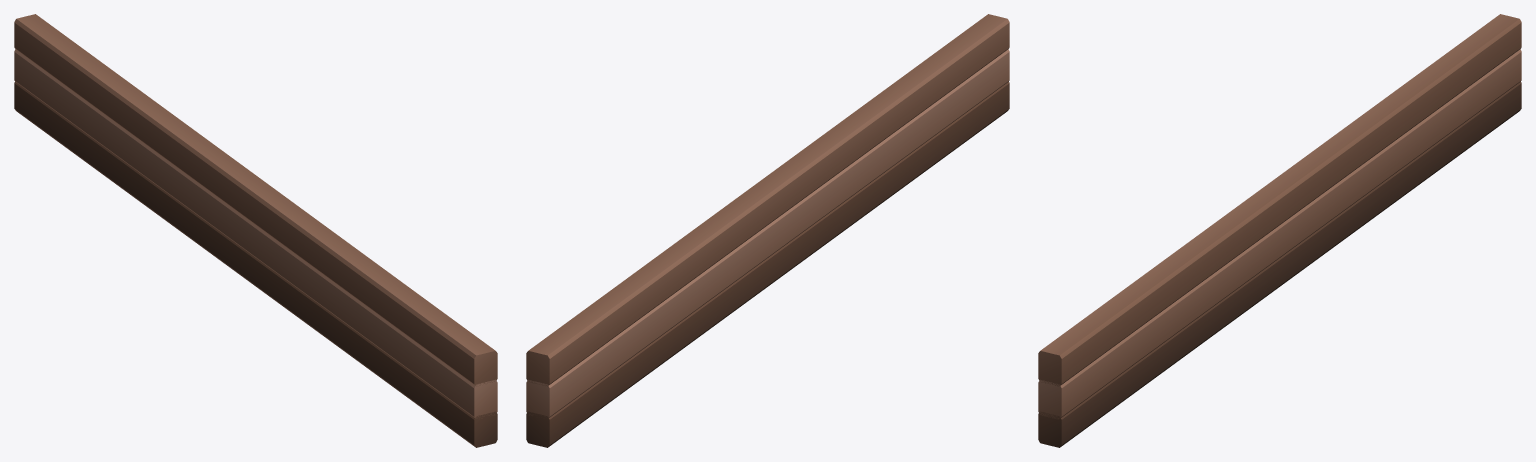
The model's file is Pared_de_madera.fbx.
3 renders of one model, left to right at view 1: azimuth 30°, elevation 25°; view 2: azimuth 150°, elevation 25°; view 3: azimuth 330°, elevation 25°, orthographic.
Parts seen in each view (by area): view 1: Tabla, Tabla1, Tabla2; view 2: Tabla, Tabla1, Tabla2; view 3: Tabla, Tabla1, Tabla2.
Part boxes in pixels (x1=…): Tabla: x1=14, y1=14, x2=497, y2=386; Tabla1: x1=14, y1=49, x2=497, y2=418; Tabla2: x1=14, y1=81, x2=497, y2=447; Tabla: x1=526, y1=14, x2=1009, y2=386; Tabla1: x1=526, y1=49, x2=1009, y2=418; Tabla2: x1=526, y1=81, x2=1009, y2=447; Tabla: x1=1038, y1=14, x2=1521, y2=386; Tabla1: x1=1038, y1=49, x2=1521, y2=419; Tabla2: x1=1038, y1=81, x2=1521, y2=447.
Bounding box in the file's own units: 0.3539 × 1.33 × 11.97.
